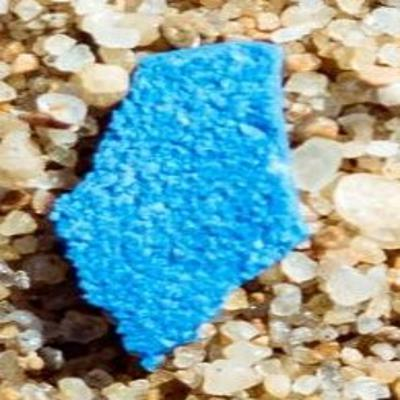plastic: (48, 28, 308, 367)
